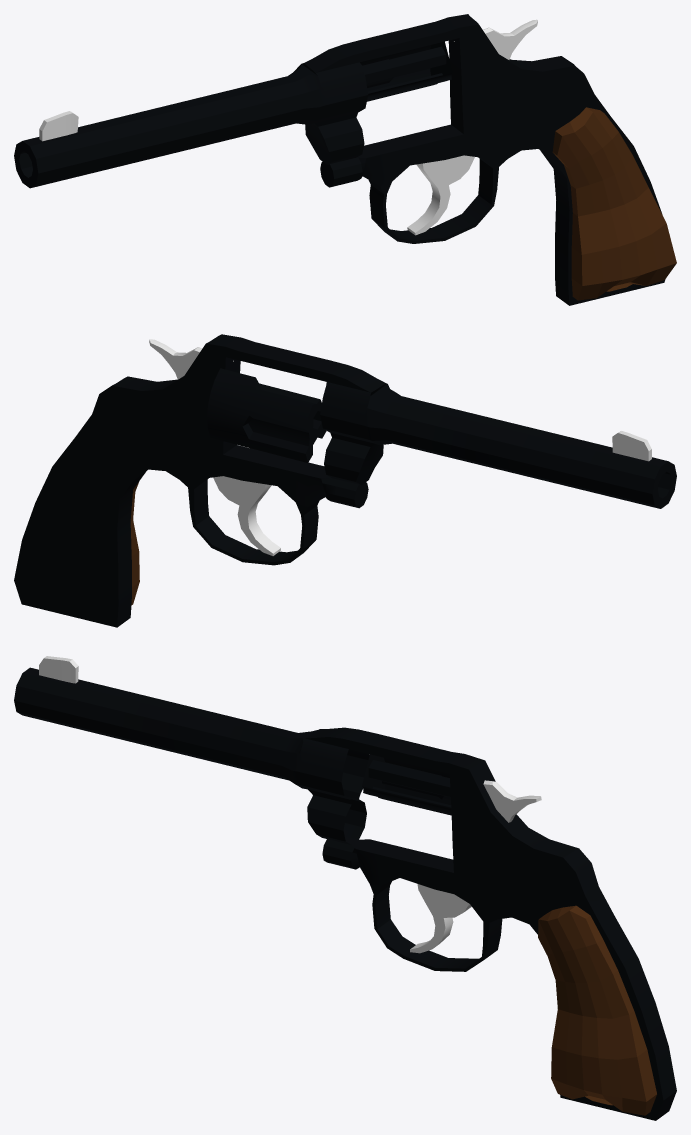
Rendered from revolver.glb.
3 views of the same model, one above another, from view 1: azimuth 30°, elevation 25°; view 2: azimuth 150°, elevation 25°; view 3: azimuth 330°, elevation 25° (orthographic).
Parts seen in each view (by area): view 1: body, handle, cylinder, trigger, hammer, sight; view 2: body, cylinder, trigger, sight, hammer, handle; view 3: body, handle, cylinder, trigger, hammer, sight.
Part boxes in pixels (x1=…): body: x1=14, y1=14, x2=665, y2=305; handle: x1=552, y1=107, x2=676, y2=300; cylinder: x1=360, y1=41, x2=452, y2=101; trigger: x1=407, y1=155, x2=474, y2=235; hammer: x1=454, y1=19, x2=537, y2=59; sight: x1=39, y1=111, x2=78, y2=141; body: x1=14, y1=334, x2=676, y2=627; cylinder: x1=207, y1=368, x2=326, y2=462; trigger: x1=213, y1=476, x2=280, y2=555; sight: x1=612, y1=431, x2=651, y2=461; hammer: x1=149, y1=339, x2=233, y2=379; handle: x1=130, y1=481, x2=139, y2=605; body: x1=14, y1=667, x2=676, y2=1120; handle: x1=538, y1=905, x2=656, y2=1115; cylinder: x1=362, y1=754, x2=451, y2=815; trigger: x1=410, y1=884, x2=471, y2=953; hammer: x1=483, y1=780, x2=541, y2=822; sight: x1=39, y1=656, x2=78, y2=683.
Size of the model in its own units: 4.78 by 2.21 by 0.6099.
